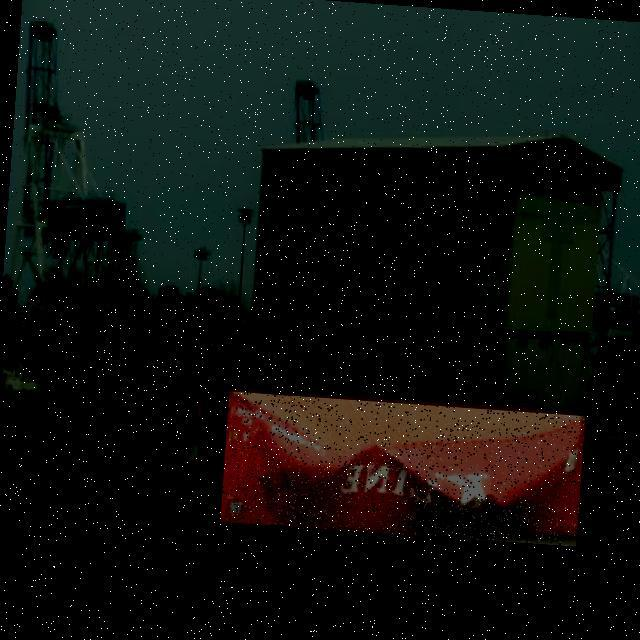Deframe: (220, 391, 585, 547)
